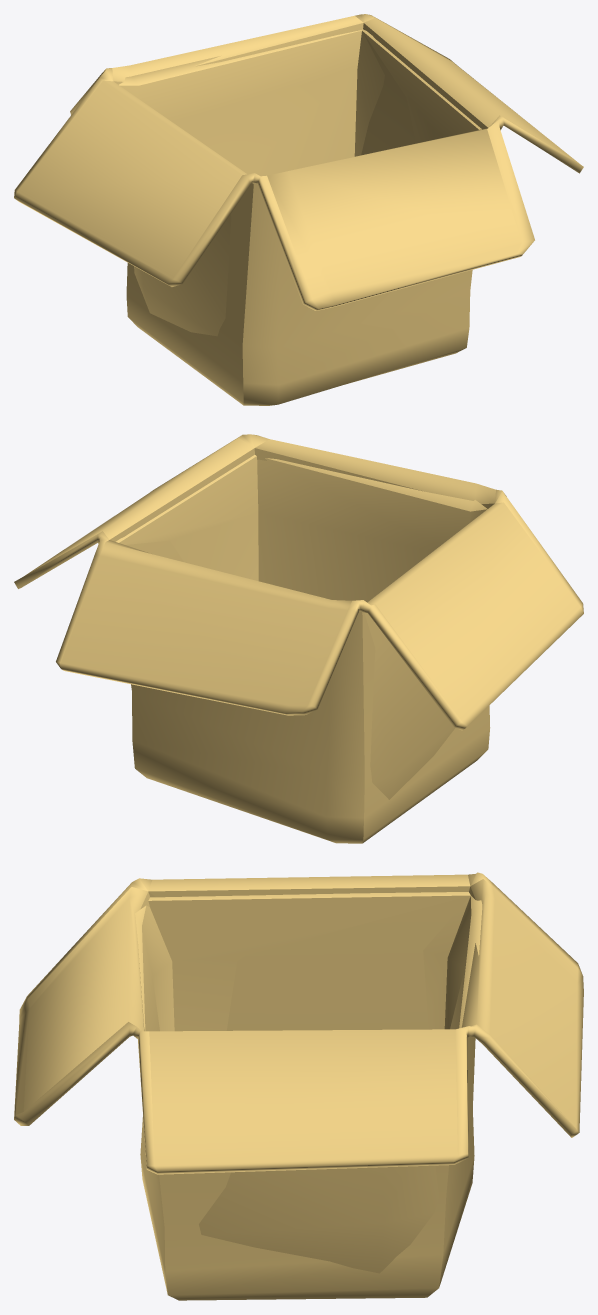
Rendered from Props_Box_Used_03.fbx.
3 renders of one model, top to bottom at view 1: azimuth 30°, elevation 25°; view 2: azimuth 150°, elevation 25°; view 3: azimuth 270°, elevation 25°, orthographic. The views are drawn at different scales.
Parts seen in each view (by area): view 1: Props_Box_Used_03; view 2: Props_Box_Used_03; view 3: Props_Box_Used_03.
Part boxes in pixels (x1,y1,x2,y2): Props_Box_Used_03: [14, 14, 583, 405]; Props_Box_Used_03: [14, 434, 583, 843]; Props_Box_Used_03: [14, 872, 583, 1300].
Bounding box in the file's own units: 63.47 × 34.67 × 59.41.
